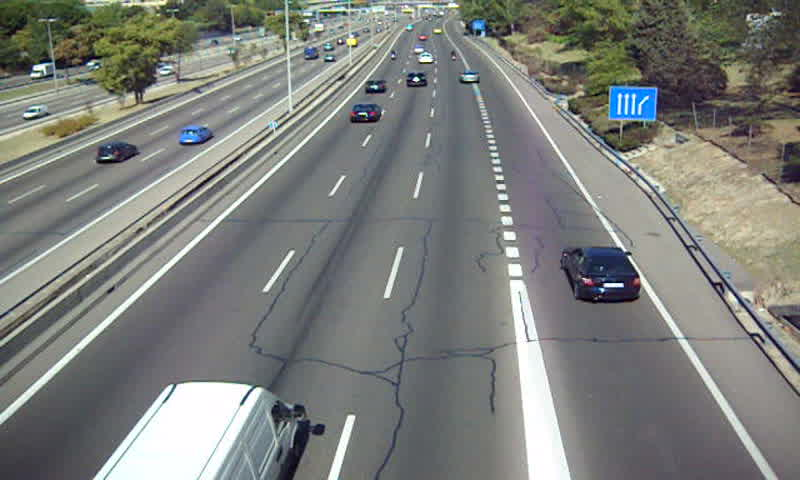car: (562, 246, 639, 300), (349, 103, 379, 124), (404, 71, 427, 89), (363, 78, 386, 94), (459, 70, 480, 85), (416, 51, 435, 63)
van: (93, 381, 303, 480)
